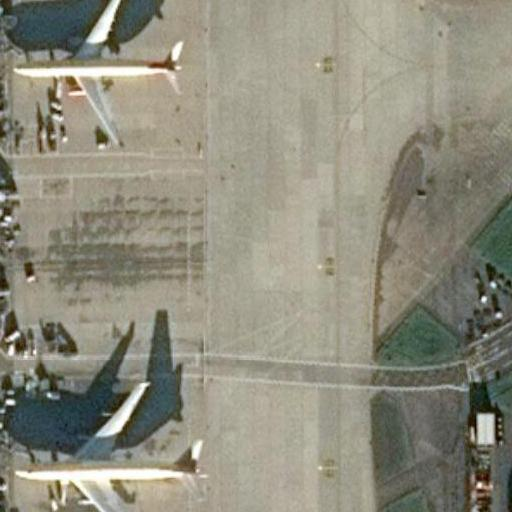Aircraft: (6, 378, 205, 512), (9, 377, 205, 512), (8, 0, 186, 144), (9, 0, 182, 142)
